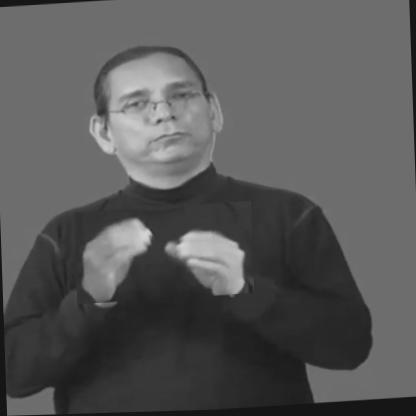Fix: (74, 203, 254, 305)
